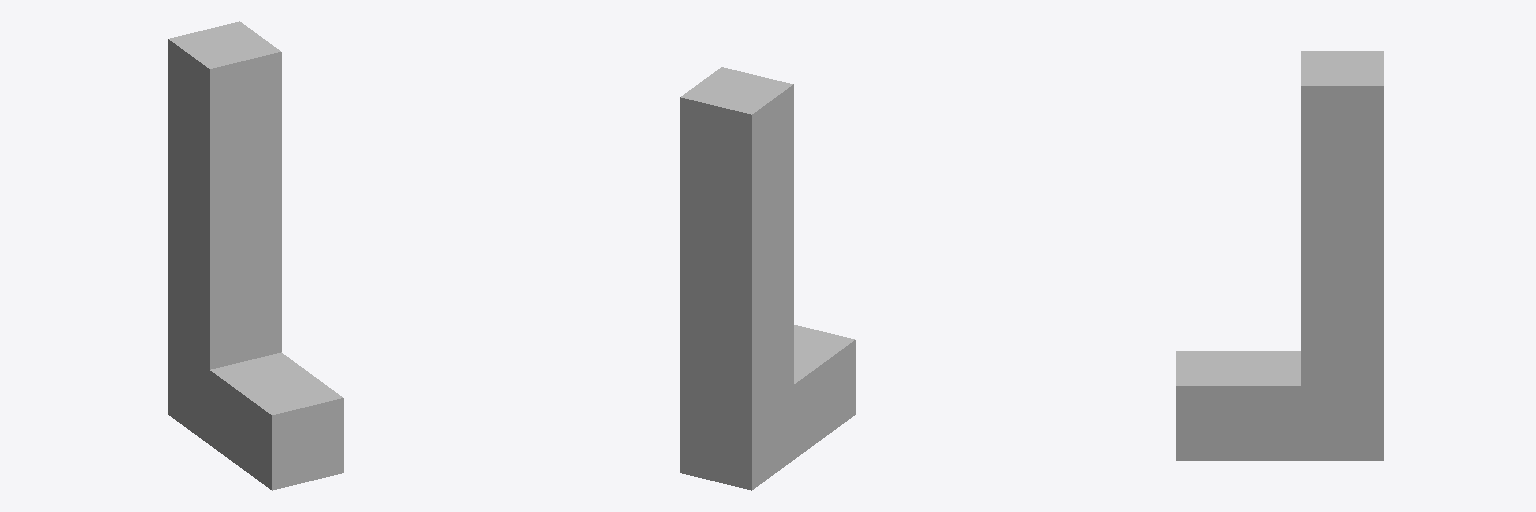
File: RightLeg.obj
3 renders of one model, left to right at view 1: azimuth 30°, elevation 25°; view 2: azimuth 150°, elevation 25°; view 3: azimuth 270°, elevation 25°, orthographic.
Parts seen in each view (by area): view 1: object 1; view 2: object 1; view 3: object 1.
Boxes of the visible parts, <box> form: object 1: <box>168,21,343,490</box>; object 1: <box>680,67,855,490</box>; object 1: <box>1176,51,1383,460</box>.
Bounding box in the file's own units: 0.2 × 1 × 0.5.